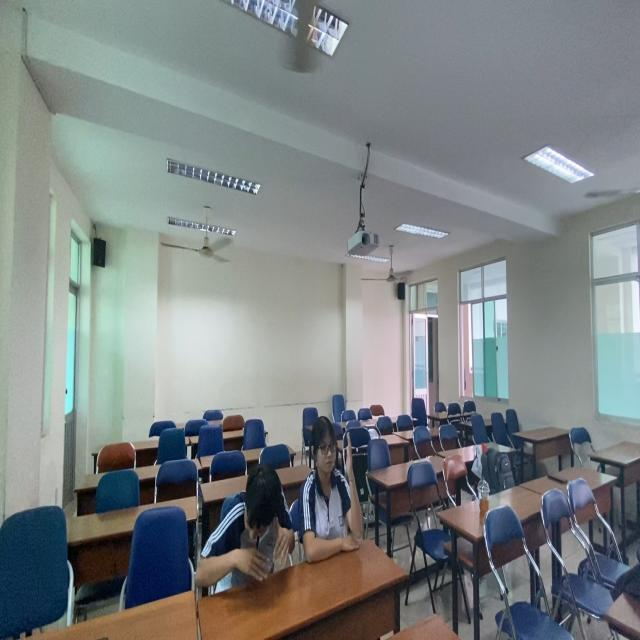raise_hand: (300, 418, 369, 567)
